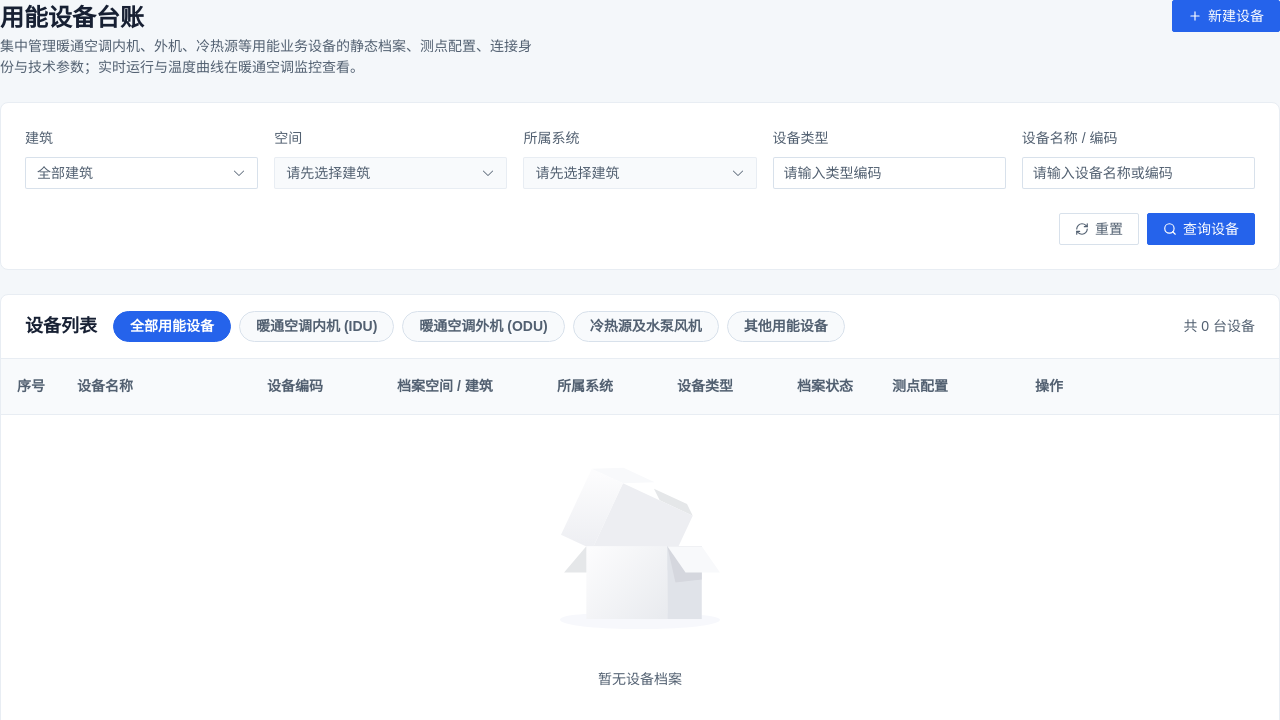
设备列表筛选 › 待建设标签不发送新请求，参数只读且无权限时不展示编辑入口
Submit the form, box [25,127,1255,245]
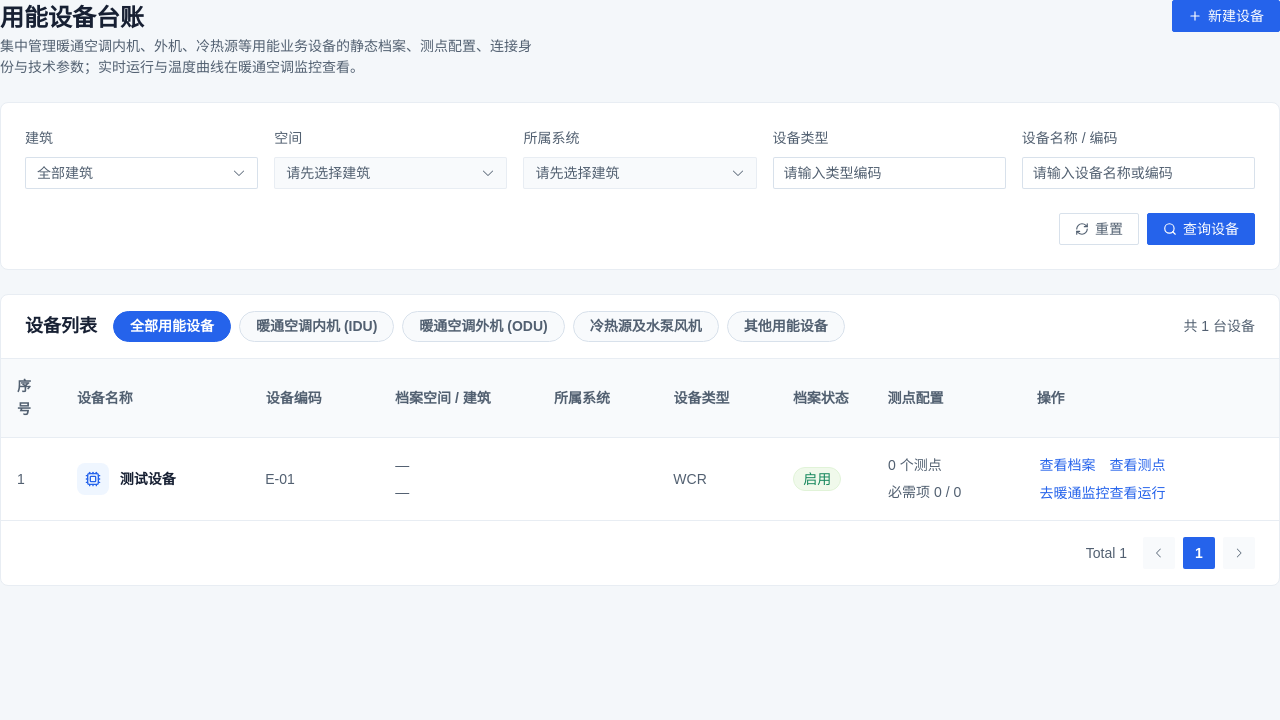
Click the button "查看档案": point(1068, 465) [1036,455,1098,475]
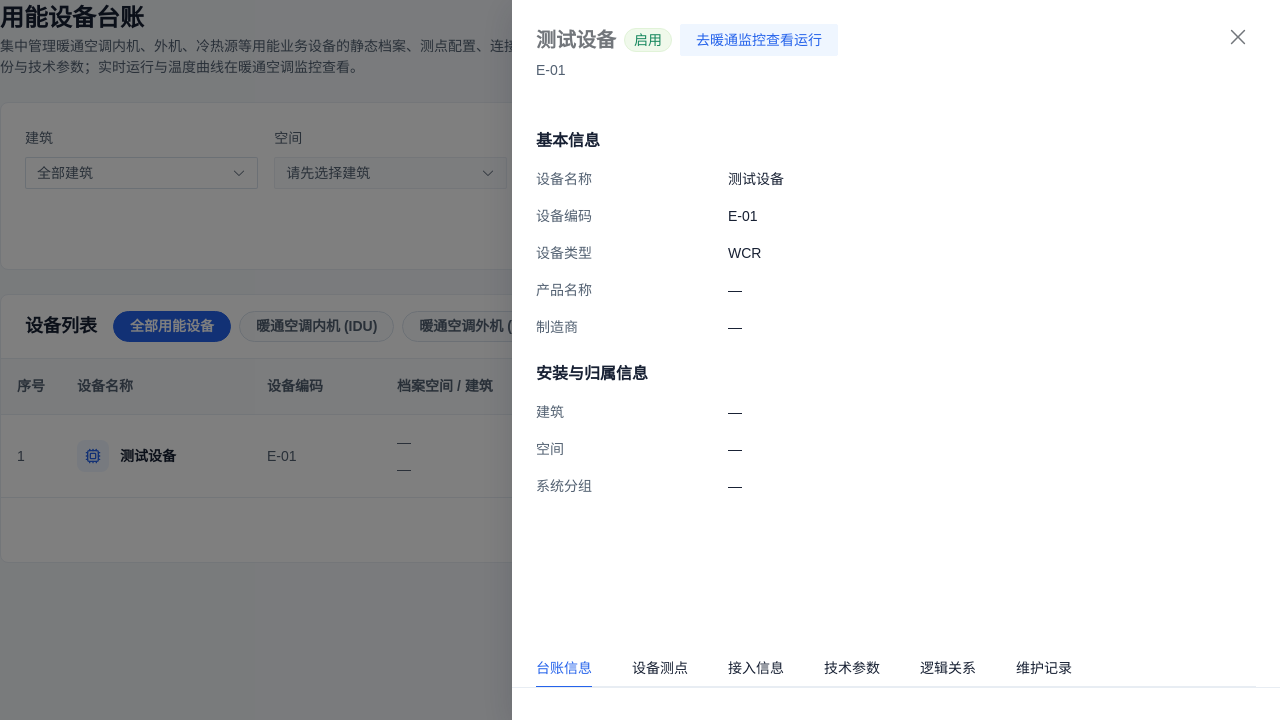
Click the tab "逻辑关系": point(948, 668) [920,660,976,676]
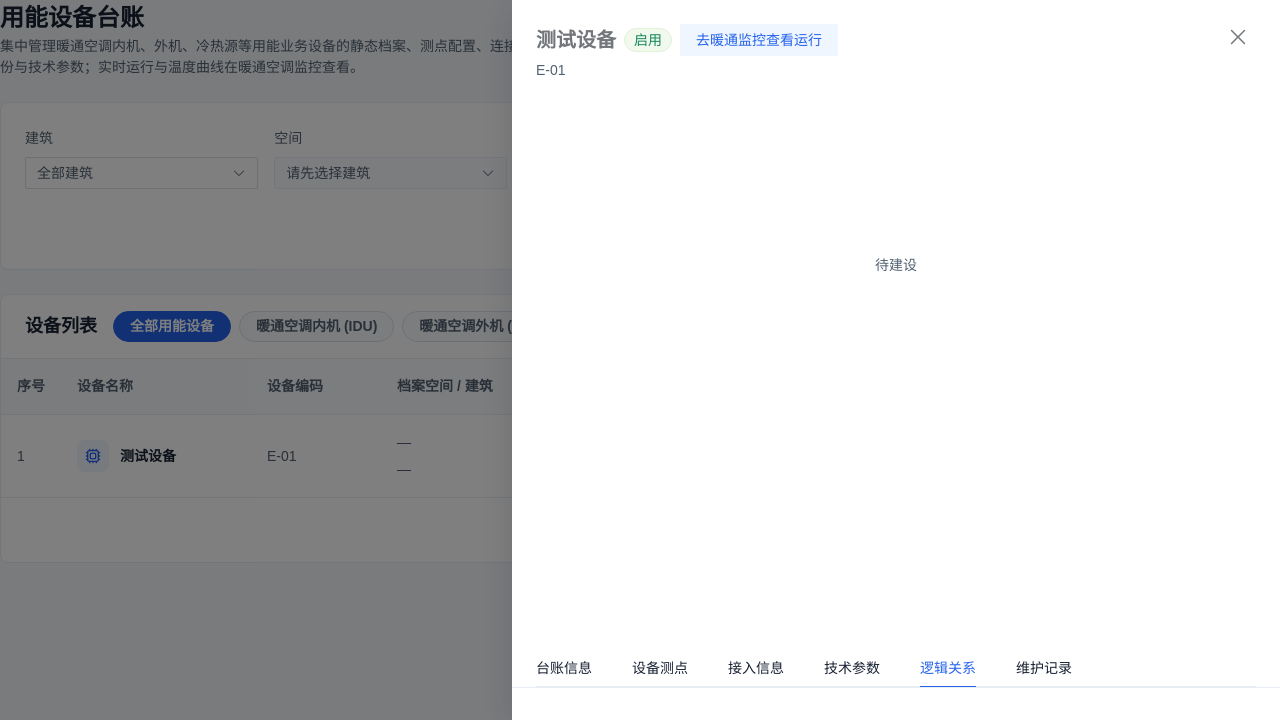
Result: the panel reads "待建设" at [875,256,917,272]
Click the tab "维护记录": point(1044, 668) [1016,660,1072,676]
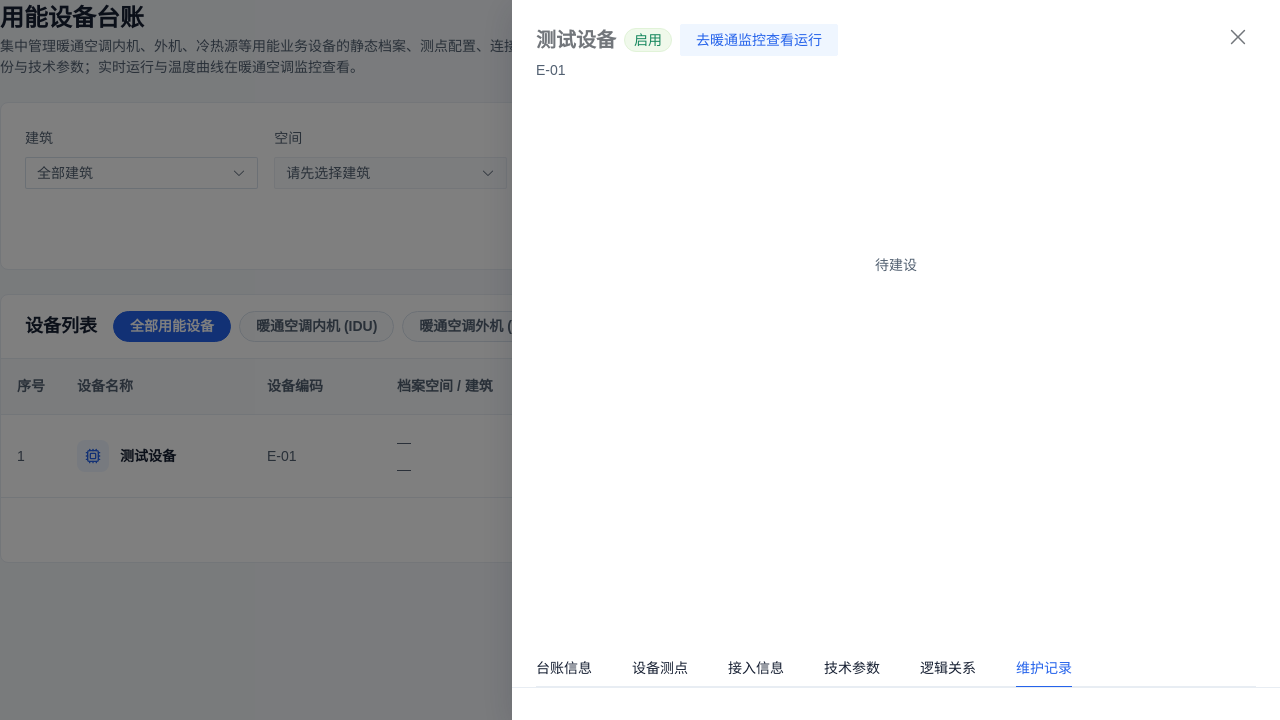
Result: the panel reads "待建设" at [875,256,917,272]
Click the tab "技术参数": point(852, 668) [824,660,880,676]
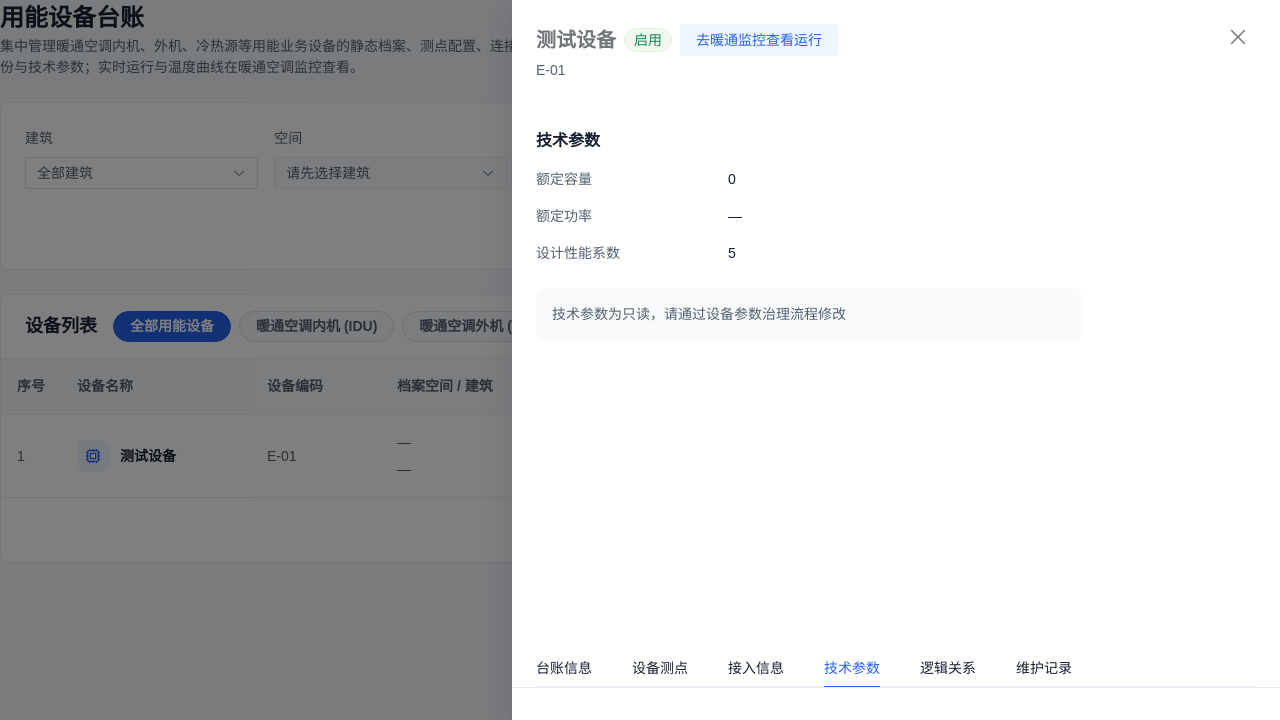
Result: the panel is shown at [536,132,1081,341]
Result: the panel shows "技术参数为只读" at [552,306,846,322]
